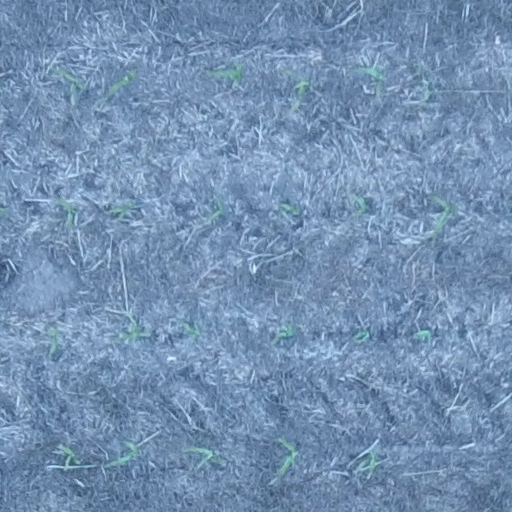planta: (267, 434, 301, 489), (424, 191, 460, 241), (99, 66, 140, 103), (110, 309, 152, 344), (102, 436, 142, 471), (352, 61, 388, 99), (177, 442, 227, 468), (49, 64, 89, 96), (200, 59, 246, 85), (52, 441, 86, 473), (287, 73, 313, 114), (411, 62, 433, 109), (54, 194, 79, 231), (353, 447, 381, 478), (104, 198, 137, 222), (203, 195, 228, 225), (41, 324, 61, 357), (271, 320, 298, 344), (345, 193, 370, 218), (178, 319, 204, 341), (276, 200, 303, 217), (410, 326, 435, 343), (351, 326, 371, 345)
